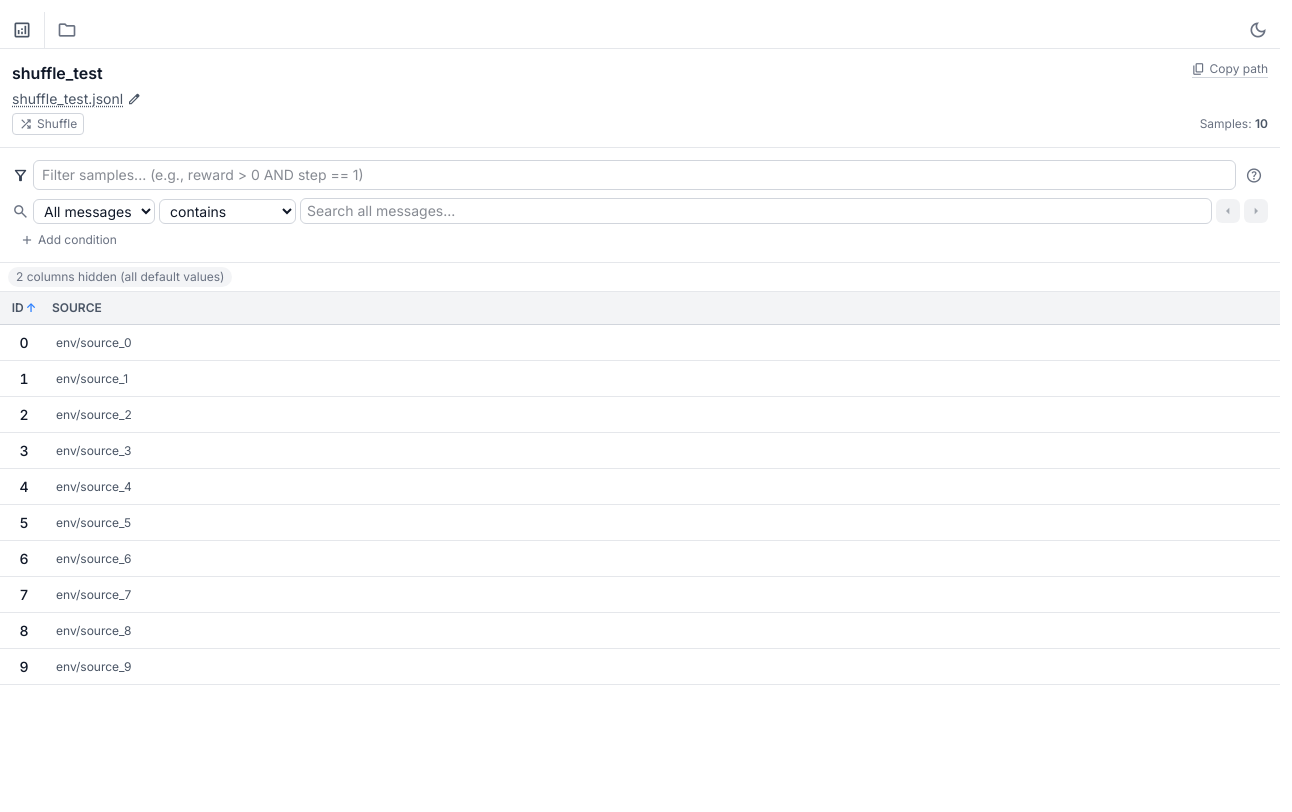
Test: LeftPanel session-only shuffle › shuffles into a different order on click and marks the control active
The width and height of the screenshot is (1292, 812).
Click the button "Shuffle".
click(48, 124)  # box [12,113,84,135]
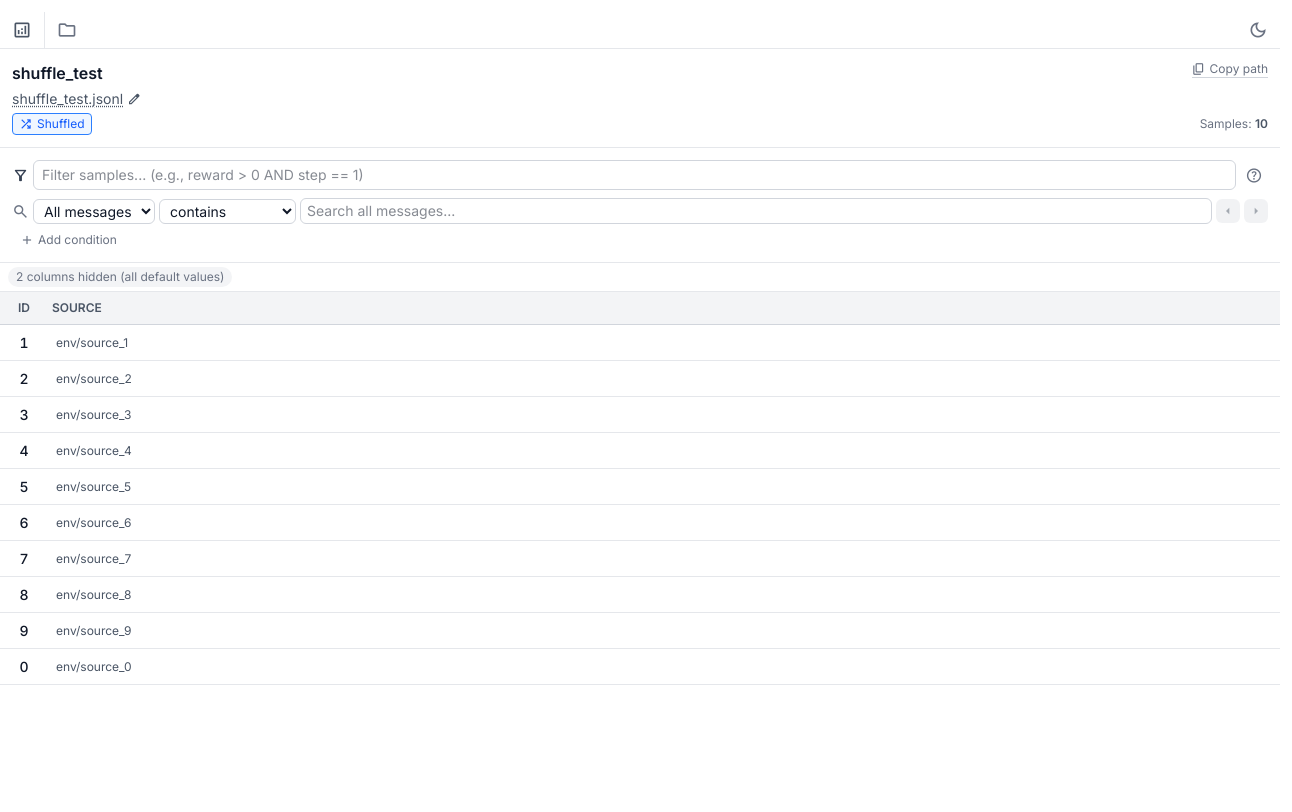
Result: the button "Shuffled" is shown at [12,113,92,135]
